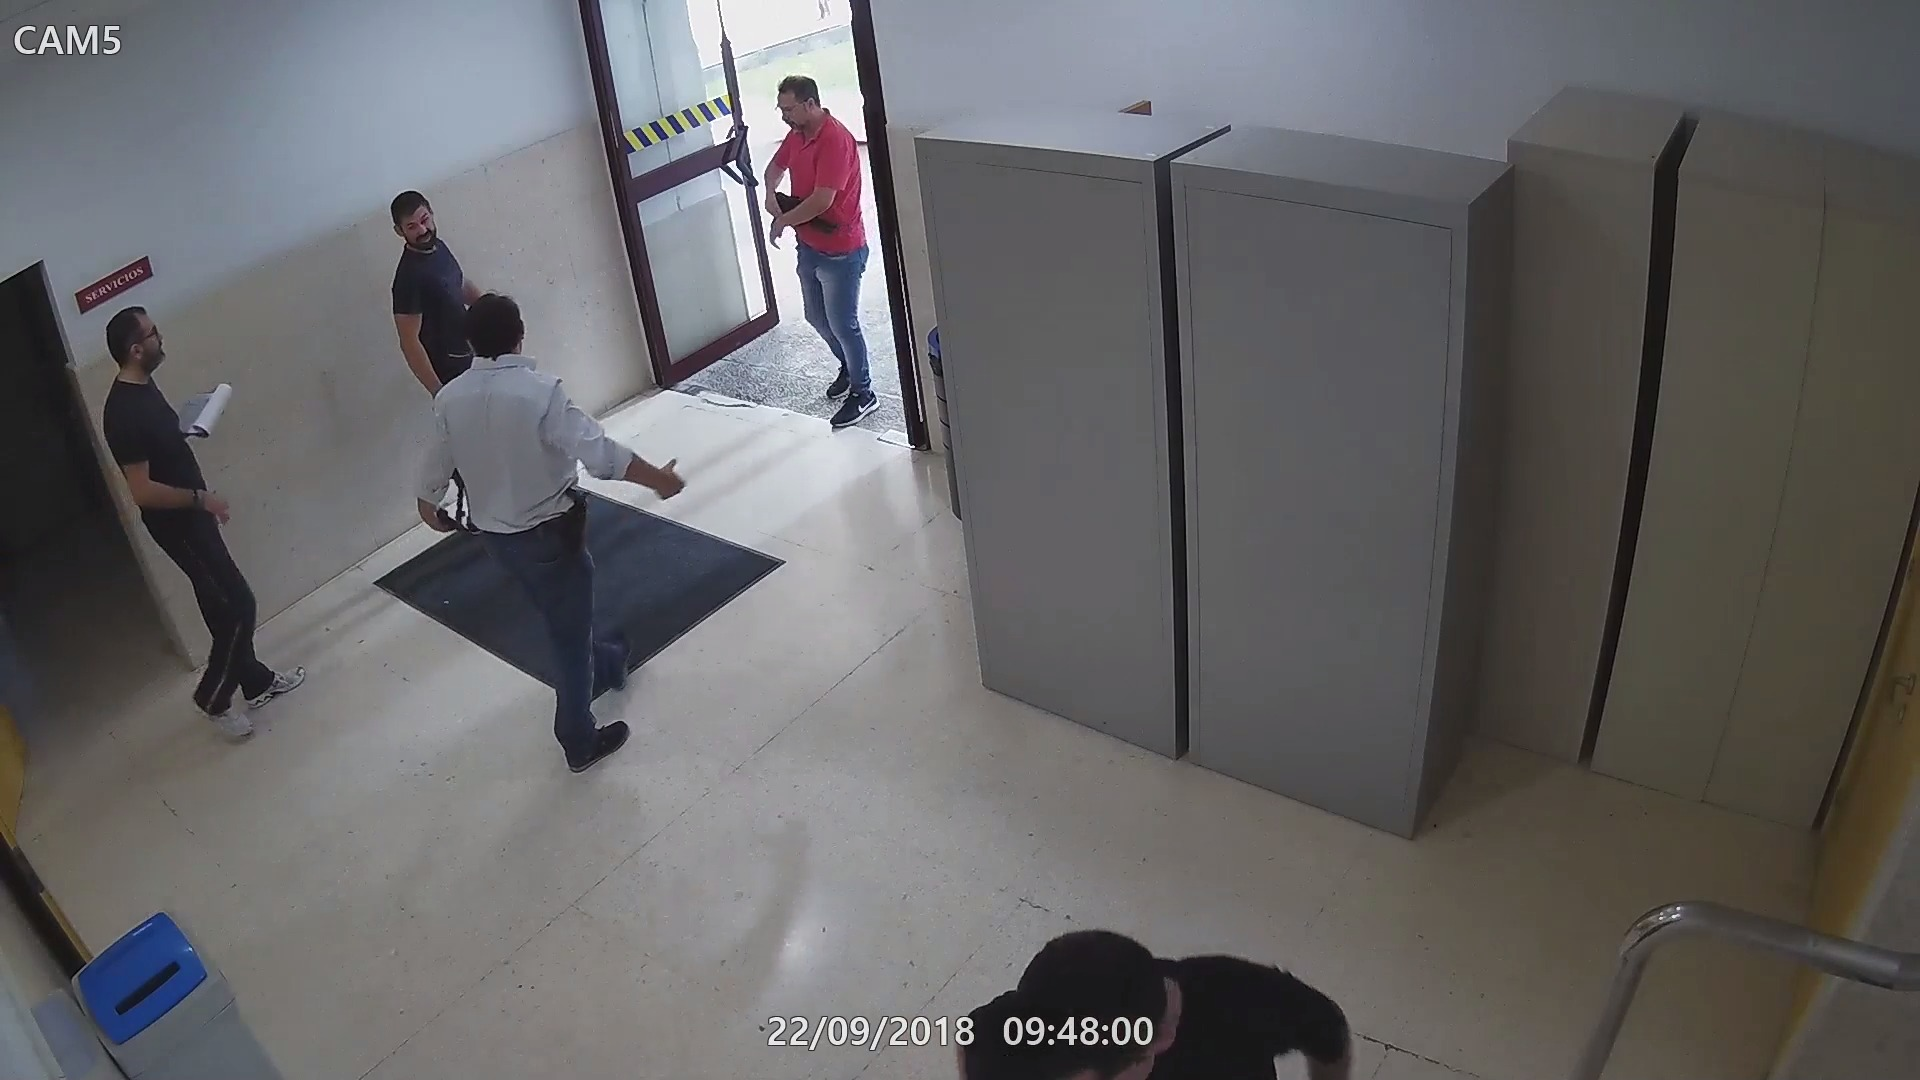Handgun: (429, 502, 469, 539)
Short_rifle: (757, 187, 843, 237)
